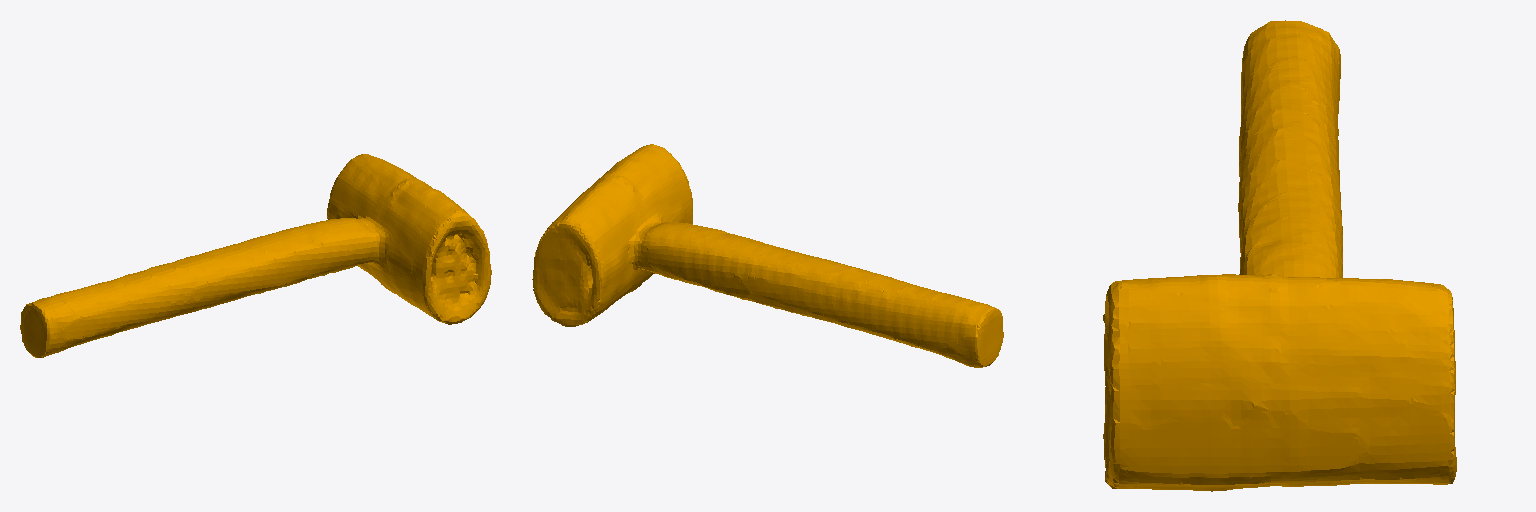
URDF robot description (mallet_hammer):
<?xml version="1.0"?>
<robot name="mallet_hammer">
  <link name="mallet_hammer">
    <visual>
      <origin xyz="0 0 0" rpy="0 0 0"/>
      <geometry>
        <mesh filename="mallet_hammer.obj" scale="1 1 1"/>
      </geometry>
    </visual>
    <collision>
      <origin xyz="0 0 0" rpy="0 0 0"/>
      <geometry>
        <mesh filename="mallet_hammer.obj" scale="1 1 1"/>
      </geometry>
    </collision>
    <inertial>
      <origin xyz="0 0 0" rpy="0 0 0"/>
      <mass value="0.09000000"/>
      <inertia ixx="0.0000519375" ixy="0" ixz="0" iyy="0.0002319375" iyz="0" izz="0.0002535000"/>
    </inertial>
  </link>
</robot>

--- Facts derived from the render (not from the file) ---
Views: 3 orthographic renders of the robot side by side, from view 1: azimuth 30°, elevation 25°; view 2: azimuth 150°, elevation 25°; view 3: azimuth 270°, elevation 25°.
Robot: mallet_hammer — 1 links, 0 joints (none); root link mallet_hammer; default pose: all joints at 0.
Visible links, largest first — view 1: mallet_hammer; view 2: mallet_hammer; view 3: mallet_hammer.
Link boxes in pixels (x1,y1,x2,y2): mallet_hammer: [20, 154, 491, 357]; mallet_hammer: [532, 144, 1003, 367]; mallet_hammer: [1103, 20, 1456, 491].
Size in the robot's own frame: 0.17 by 0.07 by 0.045 metres.
1 mesh visuals loaded from 1 distinct referenced files (1 OBJ).
